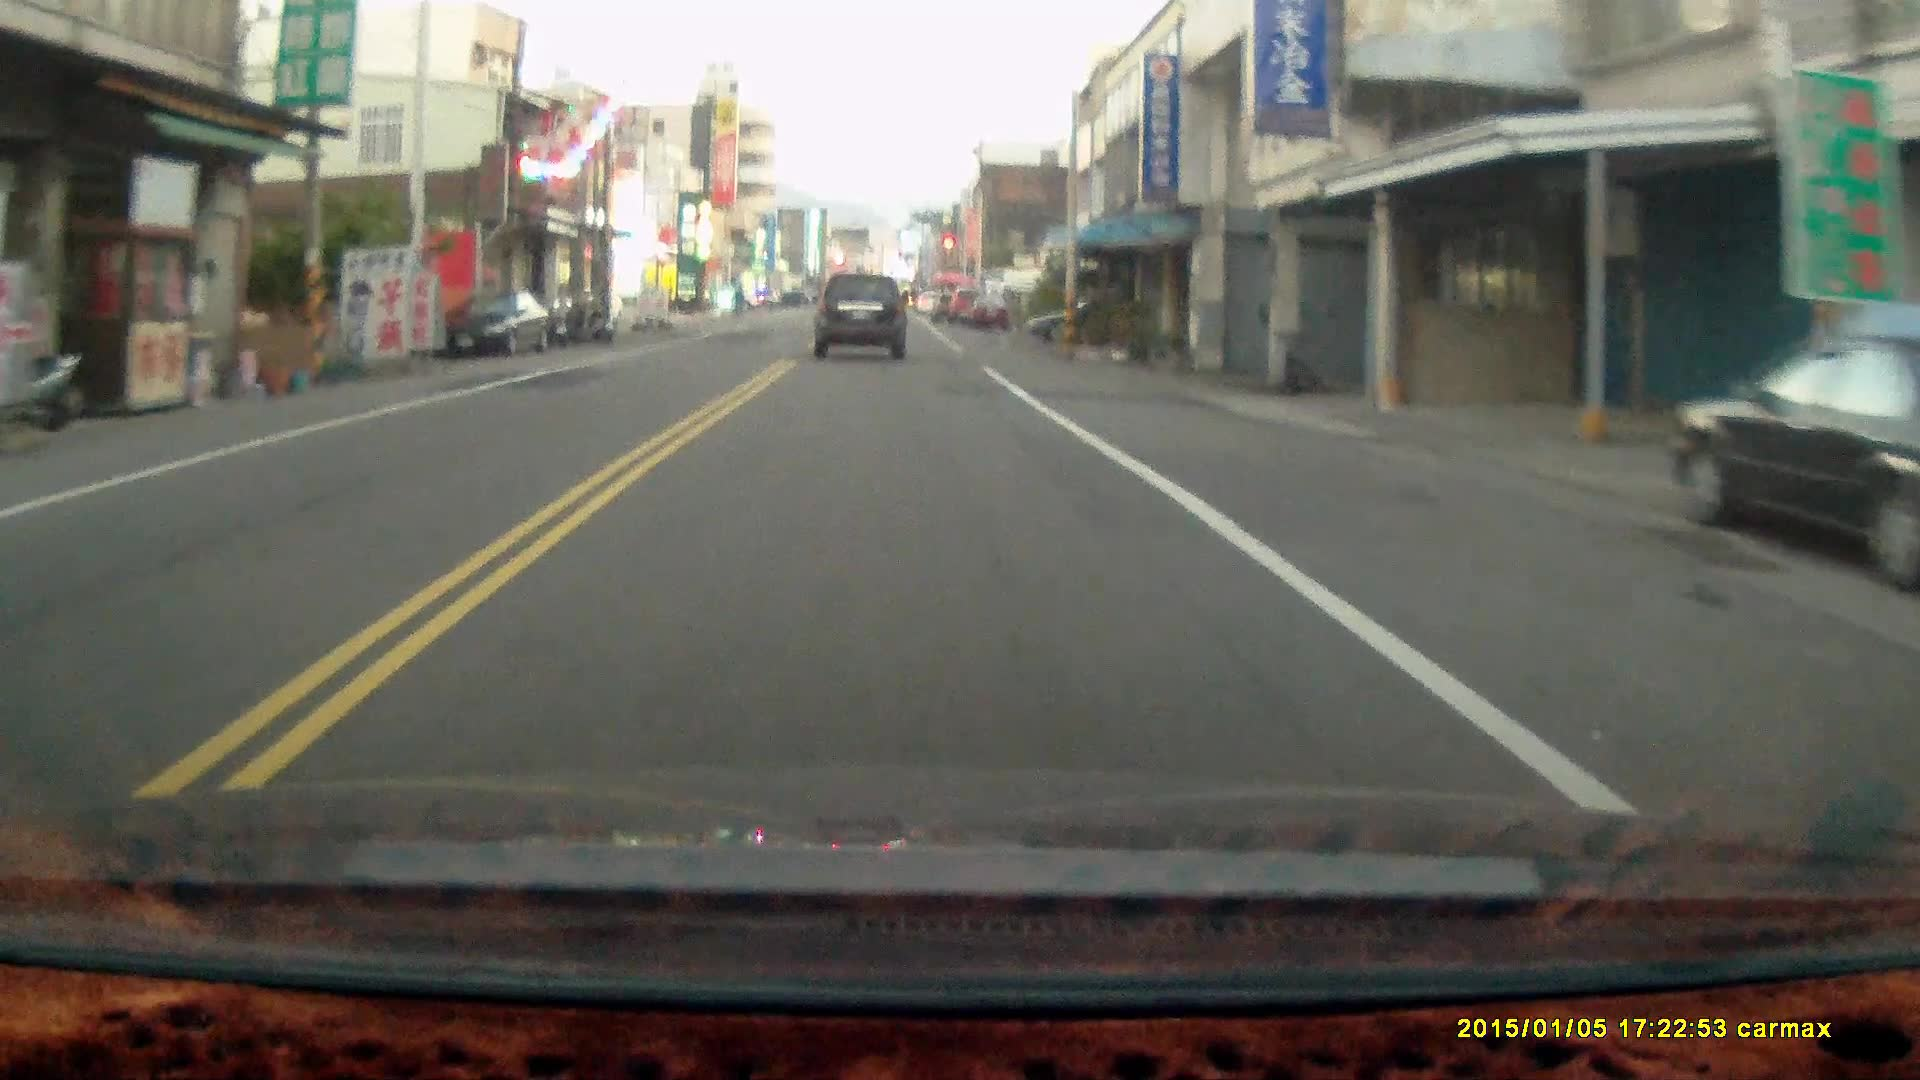vehicle: (1668, 338, 1920, 584), (436, 287, 553, 361), (815, 272, 911, 359)
